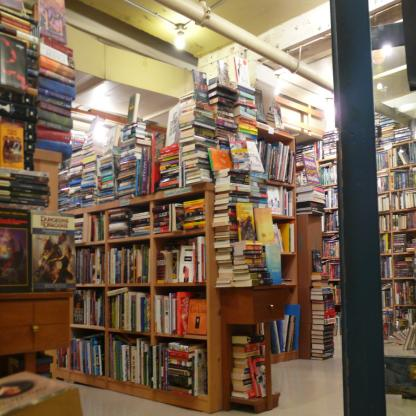book: (0, 0, 416, 416), (58, 56, 283, 398), (0, 0, 85, 415), (252, 91, 298, 357), (298, 128, 340, 359), (377, 112, 416, 350), (231, 388, 256, 398)
